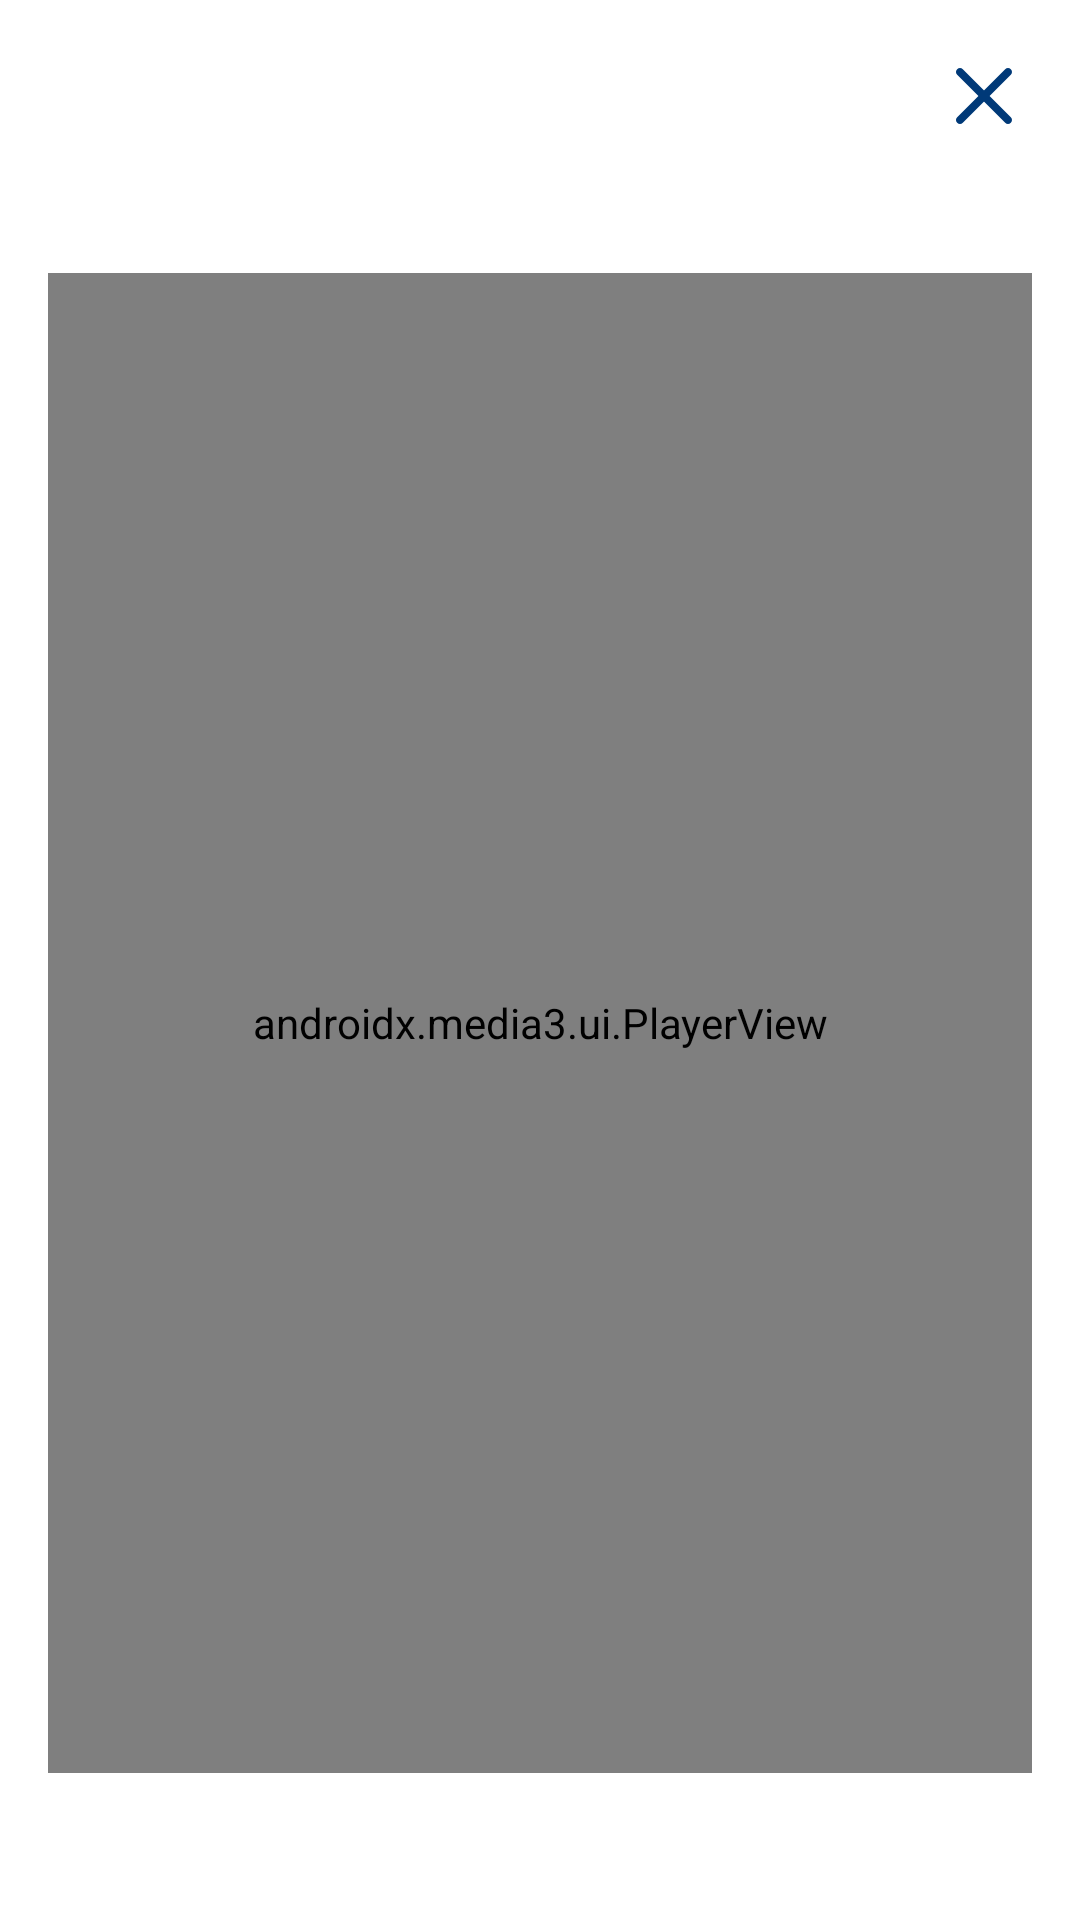

Point at icon controls on the screen. Image size 1080 × 1920, points as [x,y].
close cancel: [984,96]
